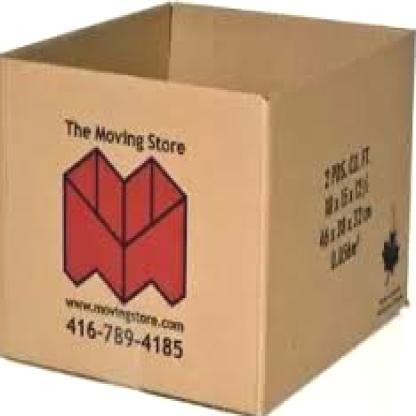package: (0, 1, 416, 416)
